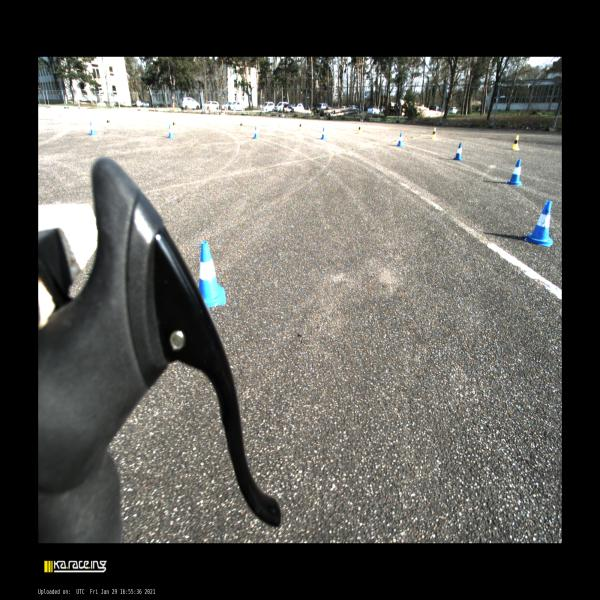blue_cone: (199, 242, 226, 308), (524, 201, 554, 247), (505, 159, 523, 186), (452, 142, 464, 160), (89, 120, 98, 135), (396, 132, 404, 146), (168, 124, 176, 138), (252, 125, 259, 139), (320, 127, 327, 140)
yellow_cone: (511, 136, 520, 150), (104, 116, 111, 128), (431, 127, 437, 140), (357, 123, 362, 134), (240, 120, 244, 130), (172, 120, 176, 129), (298, 123, 302, 131)
